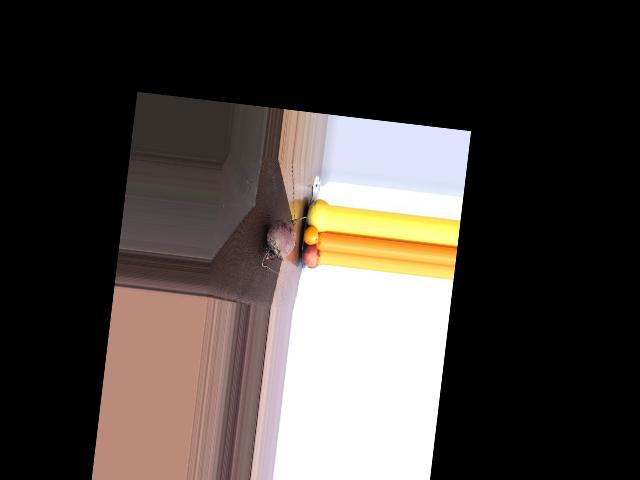beet: (260, 211, 311, 276)
